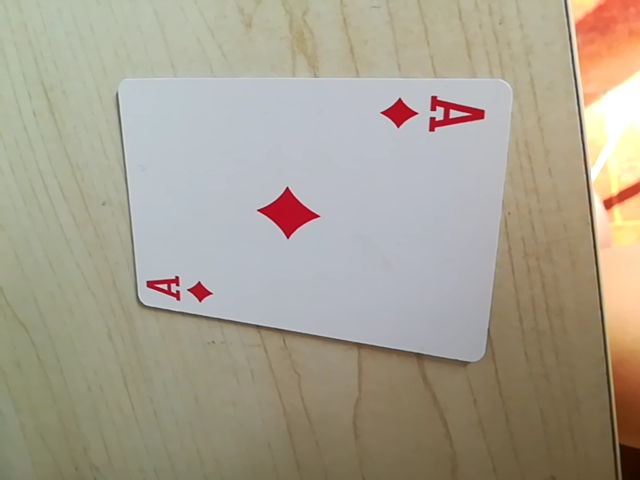fk a: (382, 91, 488, 139), (142, 268, 221, 308)
